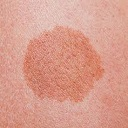Melanoma: (26, 27, 99, 102)
